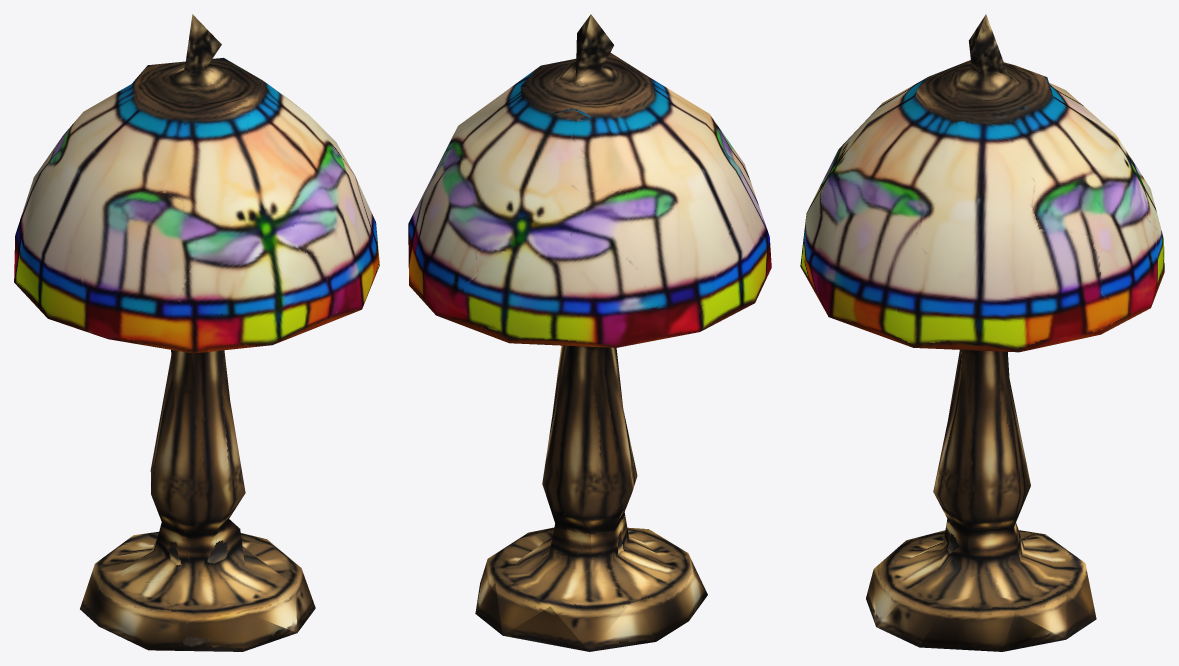
The model's file is dragonfly-tiffany-lamp.glb.
3 renders of one model, left to right at view 1: azimuth 30°, elevation 25°; view 2: azimuth 150°, elevation 25°; view 3: azimuth 270°, elevation 25°, orthographic.
Parts seen in each view (by area): view 1: geometry_0.001; view 2: geometry_0.001; view 3: geometry_0.001.
Part boxes in pixels (x1,y1,x2,y2): geometry_0.001: (14, 14, 379, 651); geometry_0.001: (408, 14, 771, 651); geometry_0.001: (800, 14, 1164, 651).
Size of the model in its own units: 0.5592 by 1.01 by 0.5631.
1 material, 1 textured.
